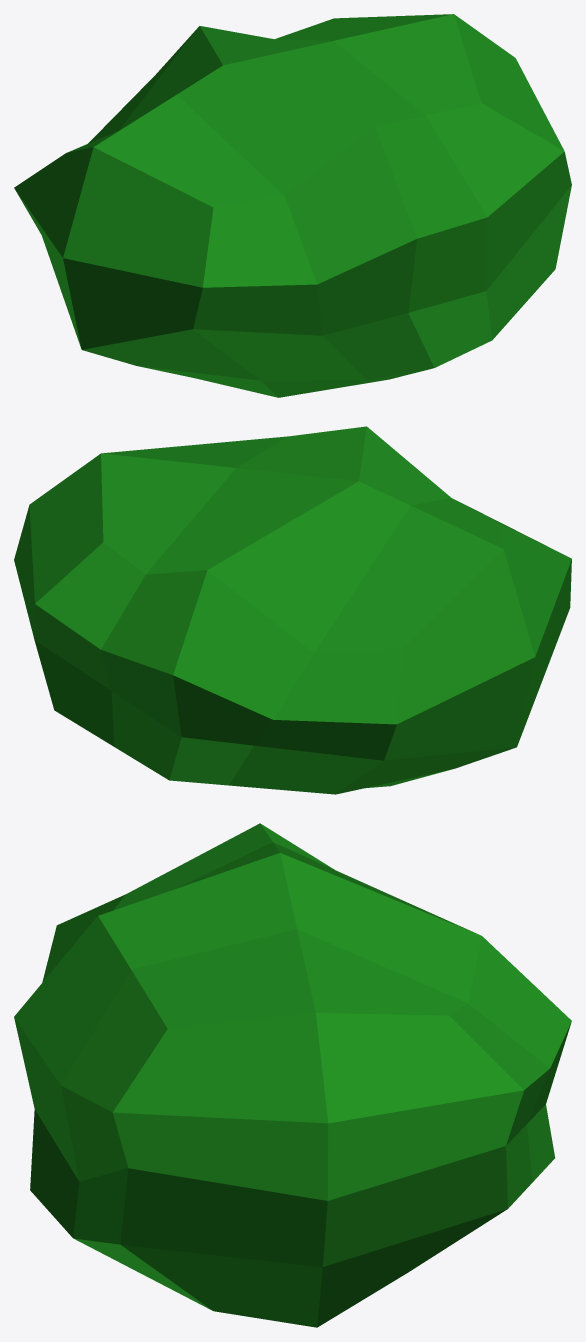
The model's file is BUSH02.fbx.
3 views of the same model, one above another, from view 1: azimuth 30°, elevation 25°; view 2: azimuth 150°, elevation 25°; view 3: azimuth 270°, elevation 25° (orthographic). The views are drawn at different scales.
Visible parts, largest first — view 1: ruler_flower3; view 2: ruler_flower3; view 3: ruler_flower3.
Part boxes in pixels (<box>): ruler_flower3: <box>14,14,571,397</box>; ruler_flower3: <box>14,426,571,794</box>; ruler_flower3: <box>14,823,571,1327</box>.
Size of the model in its own units: 284 by 165 by 242.
